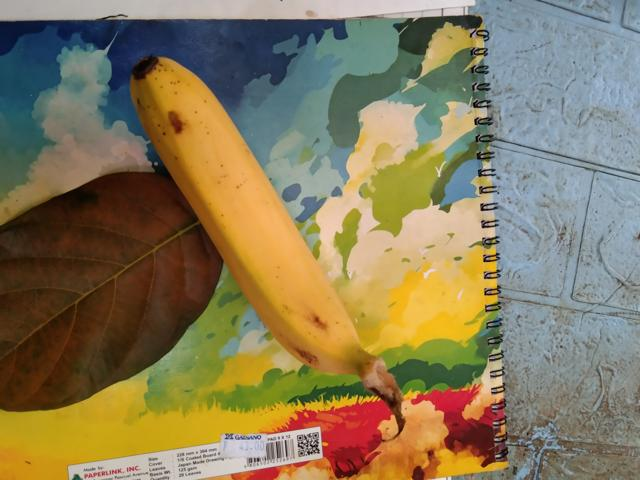ripe: (122, 45, 364, 375)
